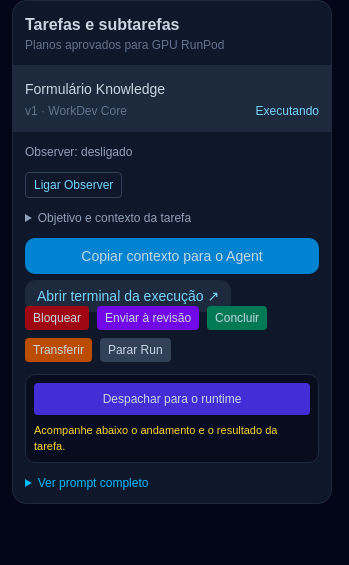
BuildQueue — despacho para runtime › 409 de despacho ativo vira aviso, não erro cru
Click the button "Despachar para o runtime".
click(172, 399)  # box left=34, top=383, right=310, bottom=415
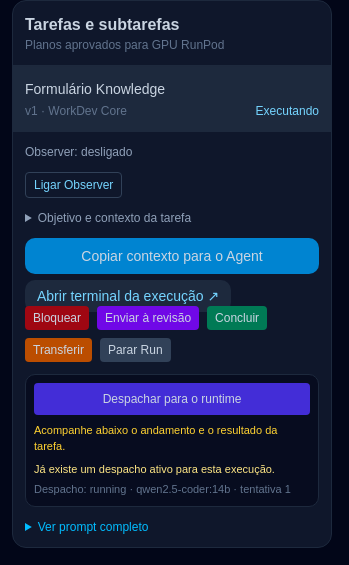
Check: the text "Já existe um despacho ativo para esta execução." is shown, box left=34, top=462, right=310, bottom=478
